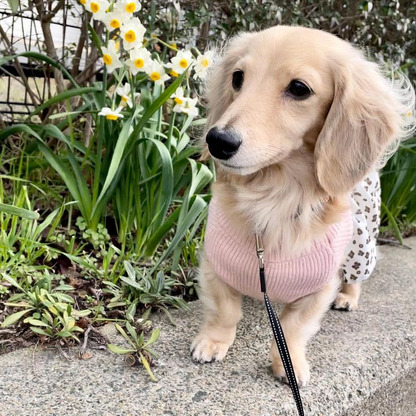dachshund: (172, 35, 387, 395)
